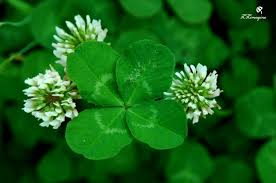4-clover: (66, 40, 188, 159)
